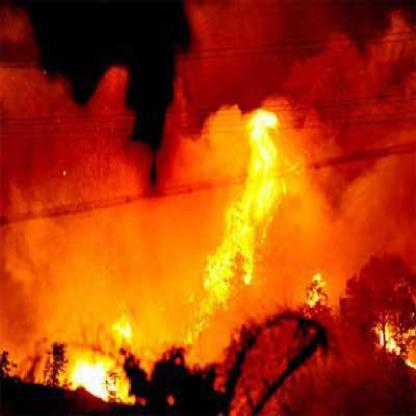fire: (187, 99, 298, 324), (52, 305, 152, 403), (365, 298, 414, 361), (307, 264, 336, 322)
